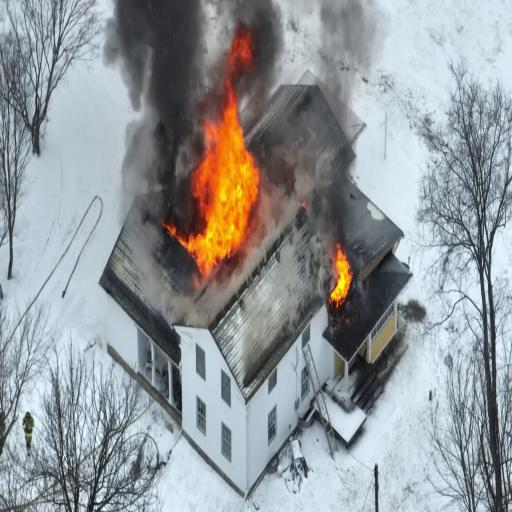fire: (200, 44, 252, 251), (182, 209, 241, 261), (330, 248, 353, 302)
